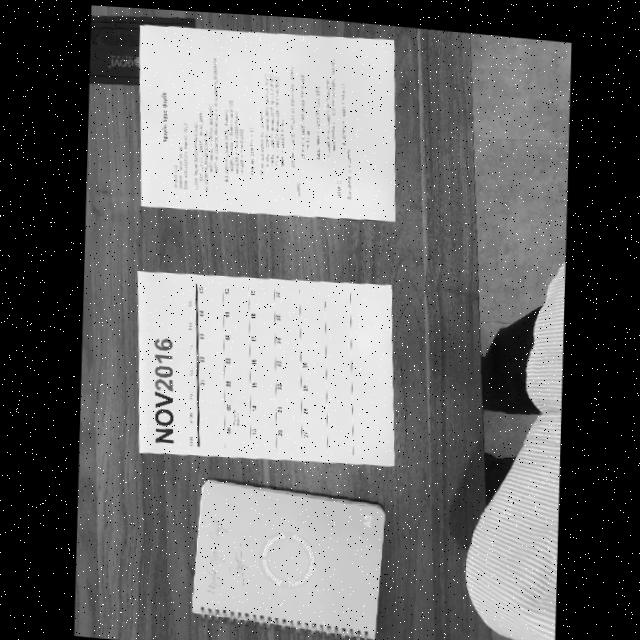document: (139, 25, 395, 221), (137, 271, 394, 466), (192, 480, 384, 640)
